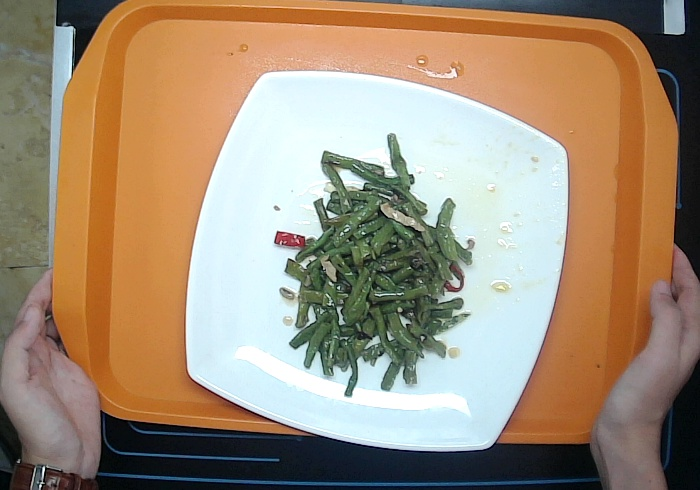ZNLD-Bai_Fang_Pan: (182, 63, 571, 452)
